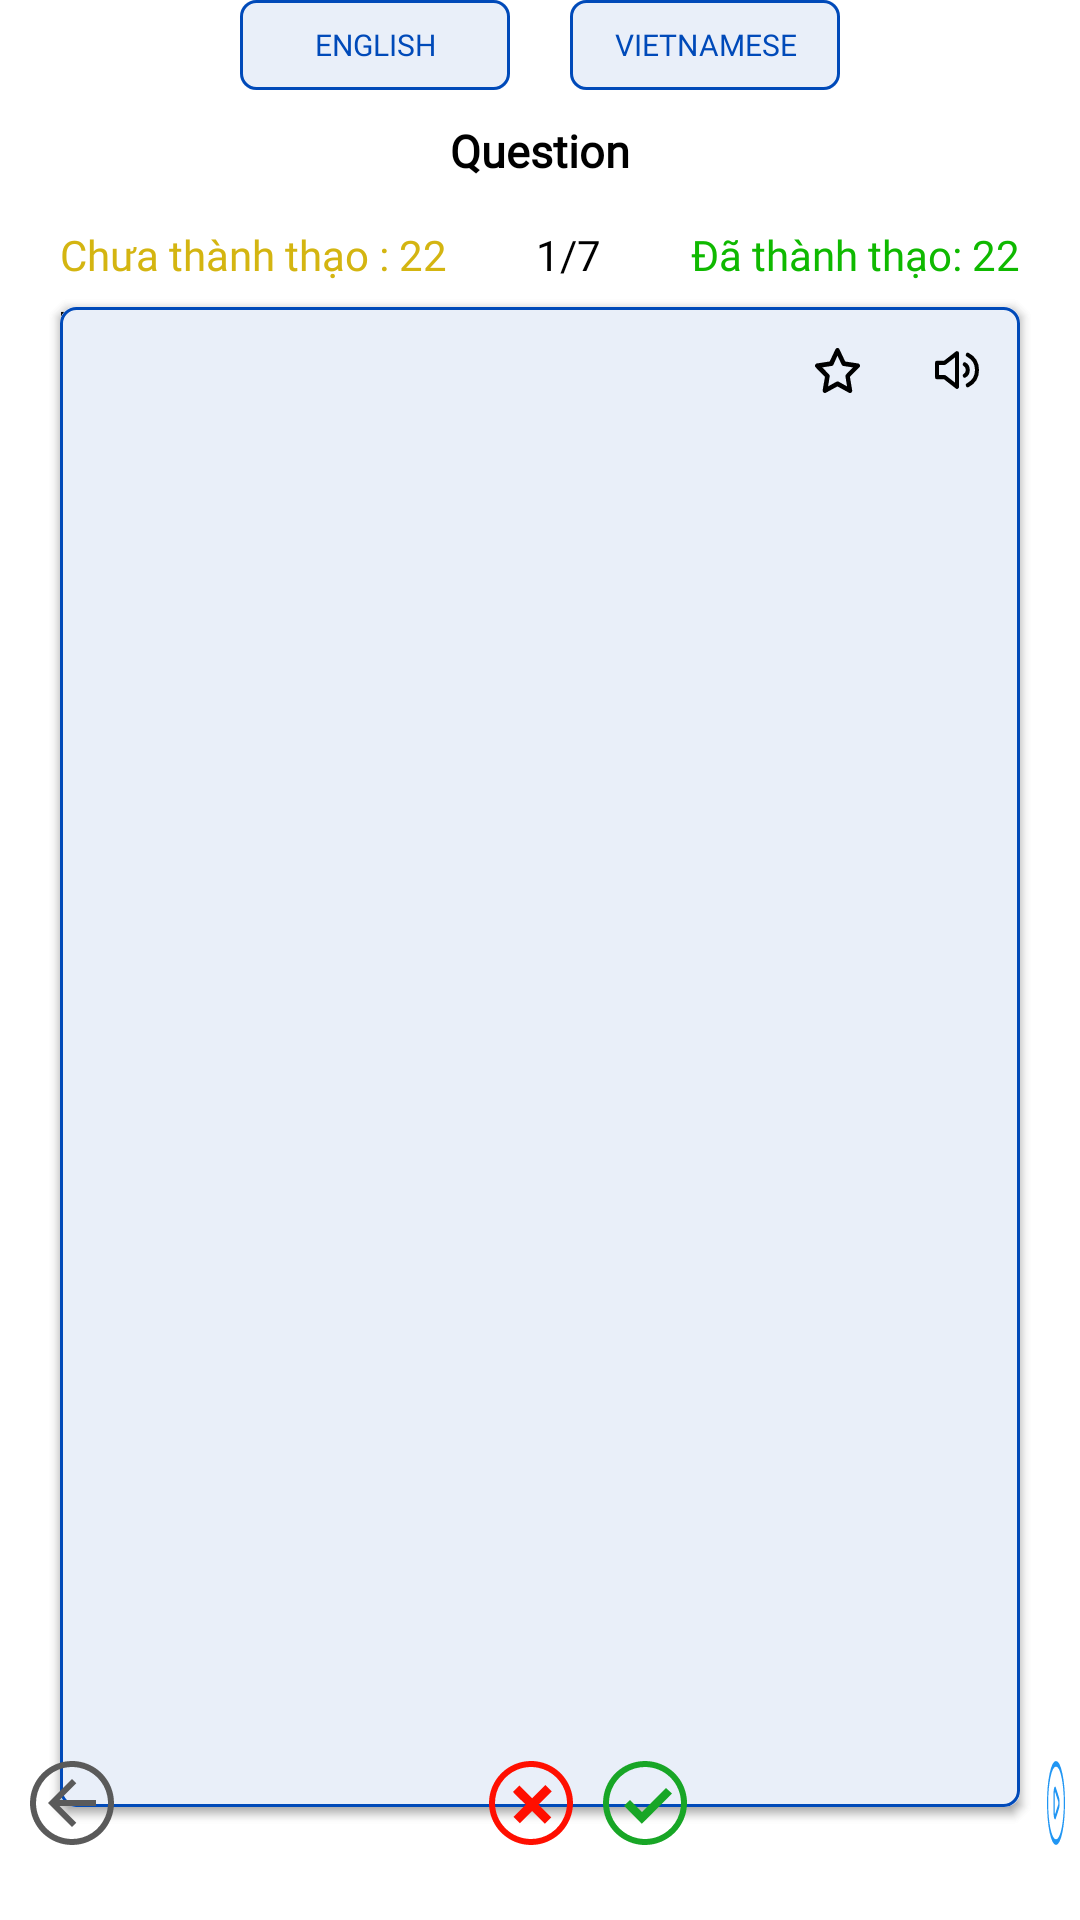

Screen size 1080×1920. Icon name, then its box in pixels as bbox(x1, y1, x2, y2):
backleft: bbox(30, 1761, 114, 1845)
cancel: bbox(489, 1761, 573, 1845)
speaker: bbox(935, 351, 979, 389)
star: bbox(815, 348, 860, 393)
tick: bbox(603, 1761, 687, 1845)
